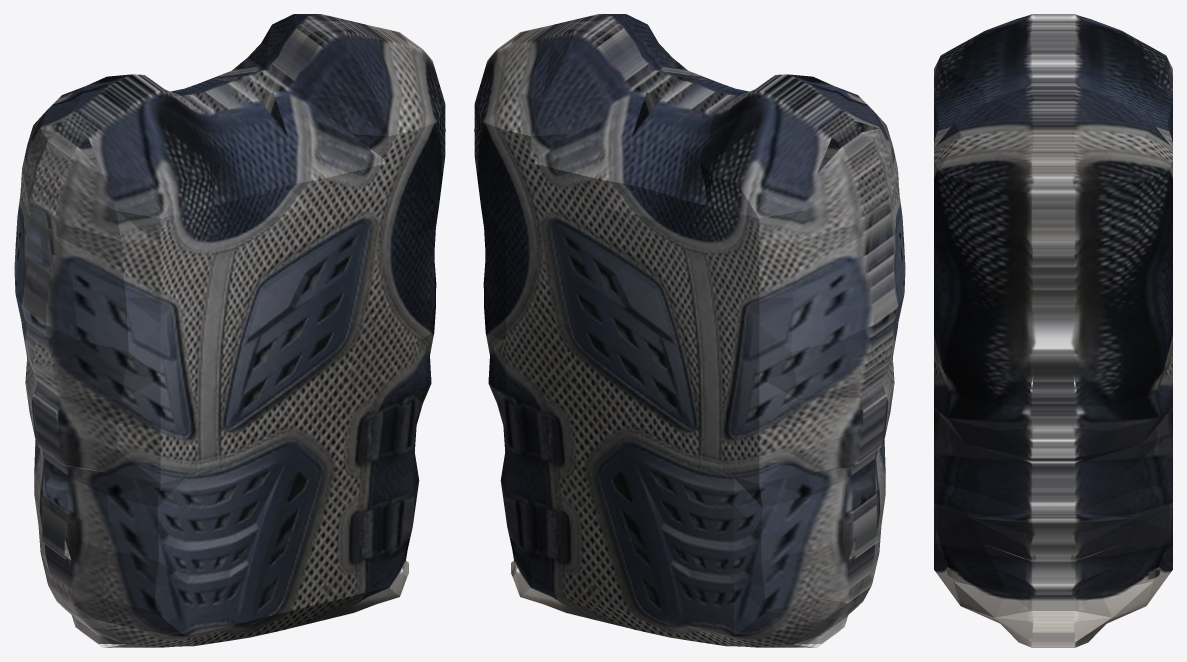
The model's file is rev-it-apex-chest-protector-151.glb.
3 renders of one model, left to right at view 1: azimuth 30°, elevation 25°; view 2: azimuth 150°, elevation 25°; view 3: azimuth 270°, elevation 25°, orthographic. The views are drawn at different scales.
Parts seen in each view (by area): view 1: world; view 2: world; view 3: world.
Boxes of the visible parts, bbox=[...] form: world: bbox=[14, 14, 445, 647]; world: bbox=[474, 14, 905, 647]; world: bbox=[934, 14, 1172, 647].
Bounding box in the file's own units: 0.7064 × 1 × 0.4.
1 material, 1 textured.
